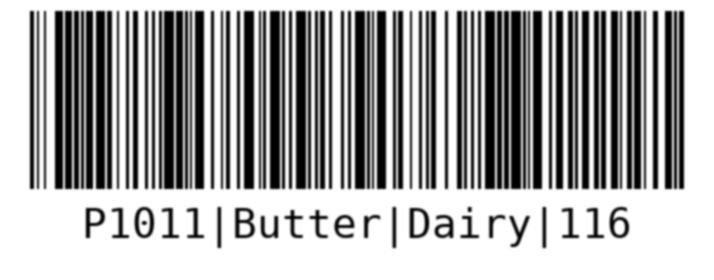milk: (29, 11, 684, 242)
